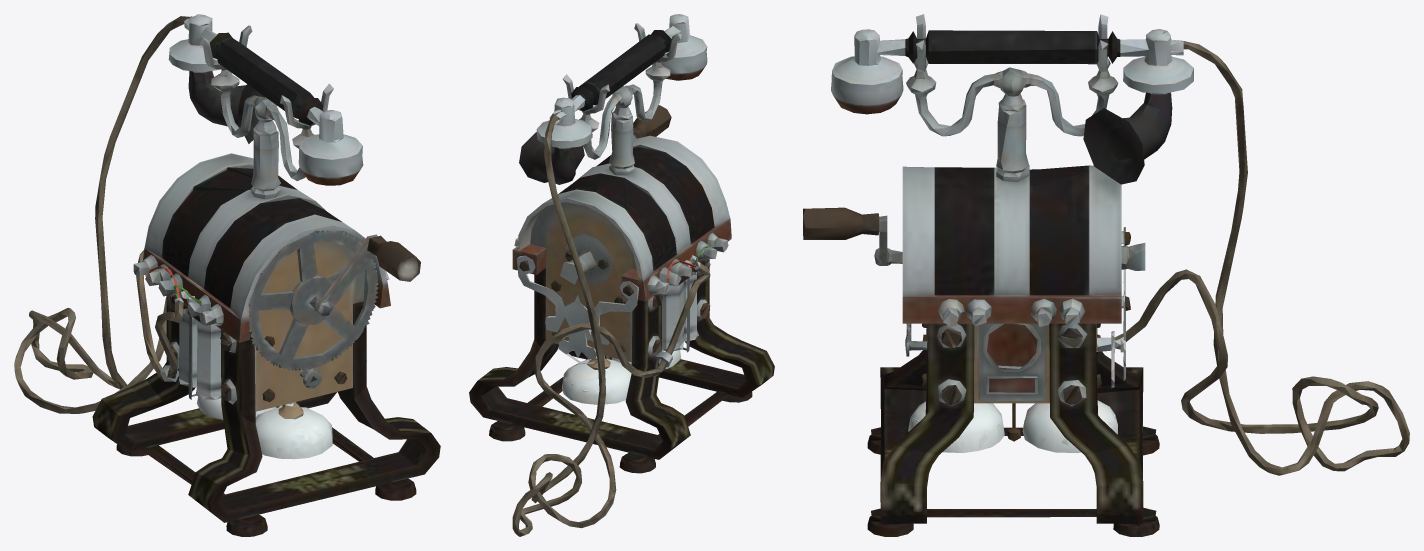
The model's file is telephone-table-ericsson.lod1.glb.
3 views of the same model, side by side, from view 1: azimuth 30°, elevation 25°; view 2: azimuth 150°, elevation 25°; view 3: azimuth 270°, elevation 25° (orthographic). The views are drawn at different scales.
Visible parts, largest first — view 1: telephone-table-ericsson; view 2: telephone-table-ericsson; view 3: telephone-table-ericsson.
Boxes of the visible parts, <box> form: telephone-table-ericsson: <box>14,14,440,536</box>; telephone-table-ericsson: <box>469,14,774,536</box>; telephone-table-ericsson: <box>803,14,1409,536</box>.
Size of the model in its own units: 0.1477 by 0.2498 by 0.2978.
1 material, 1 textured.
